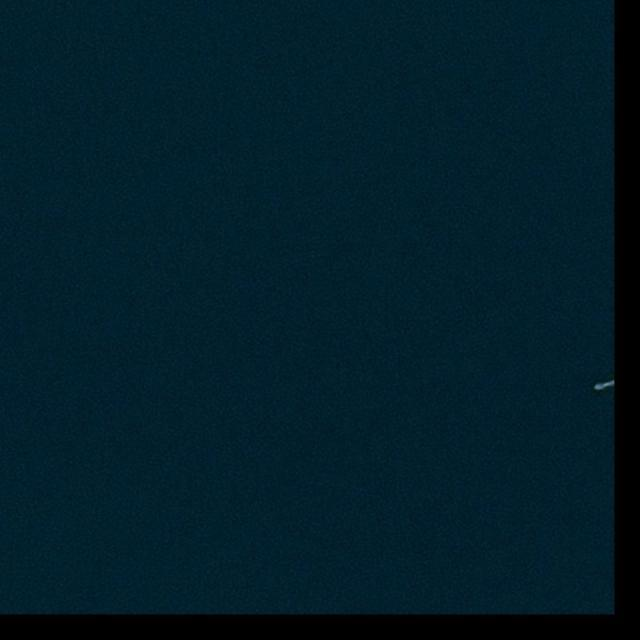ship: (594, 383, 604, 391)
